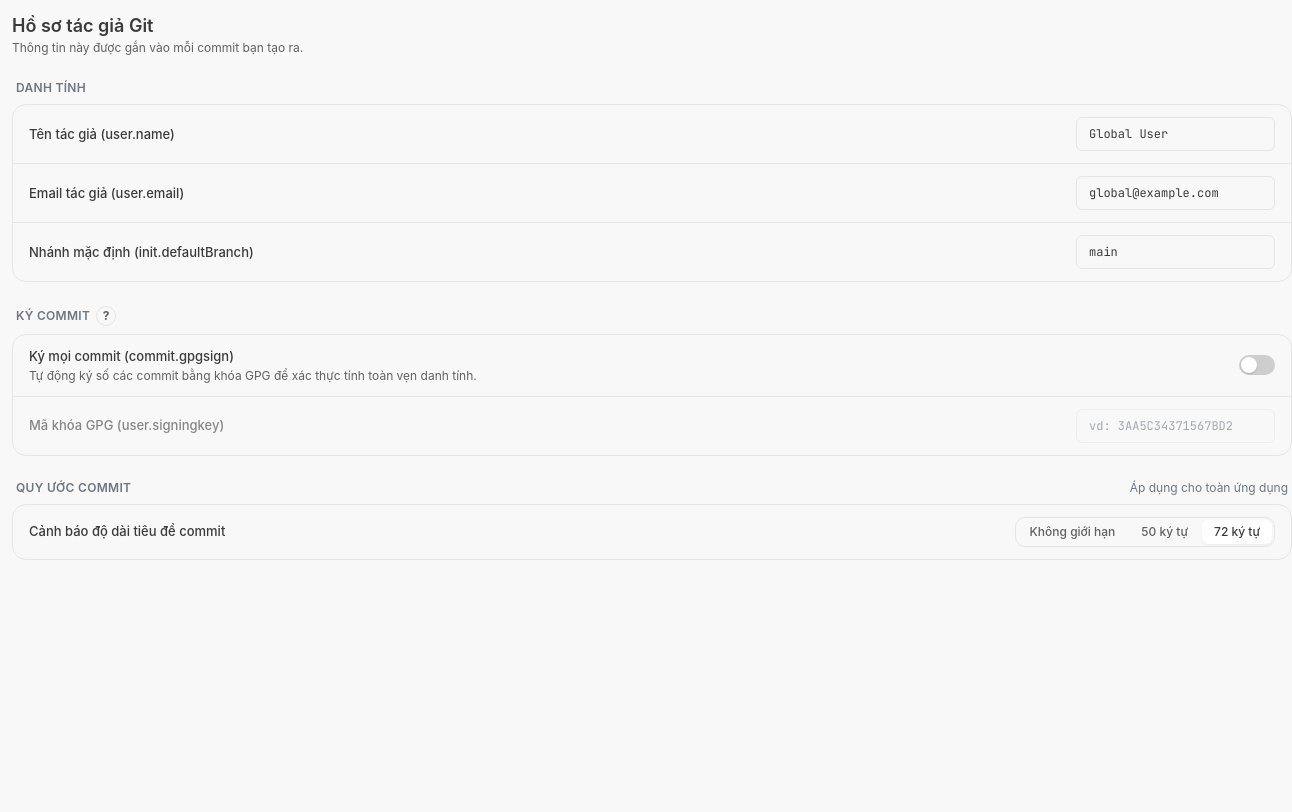
GitProfileTab › shows the save bar only after an edit and discards back to the loaded values
Step 1. Replace the text in the field showing "Global User" with "Someone Else" → (1176, 134), box [1076,117,1275,151]
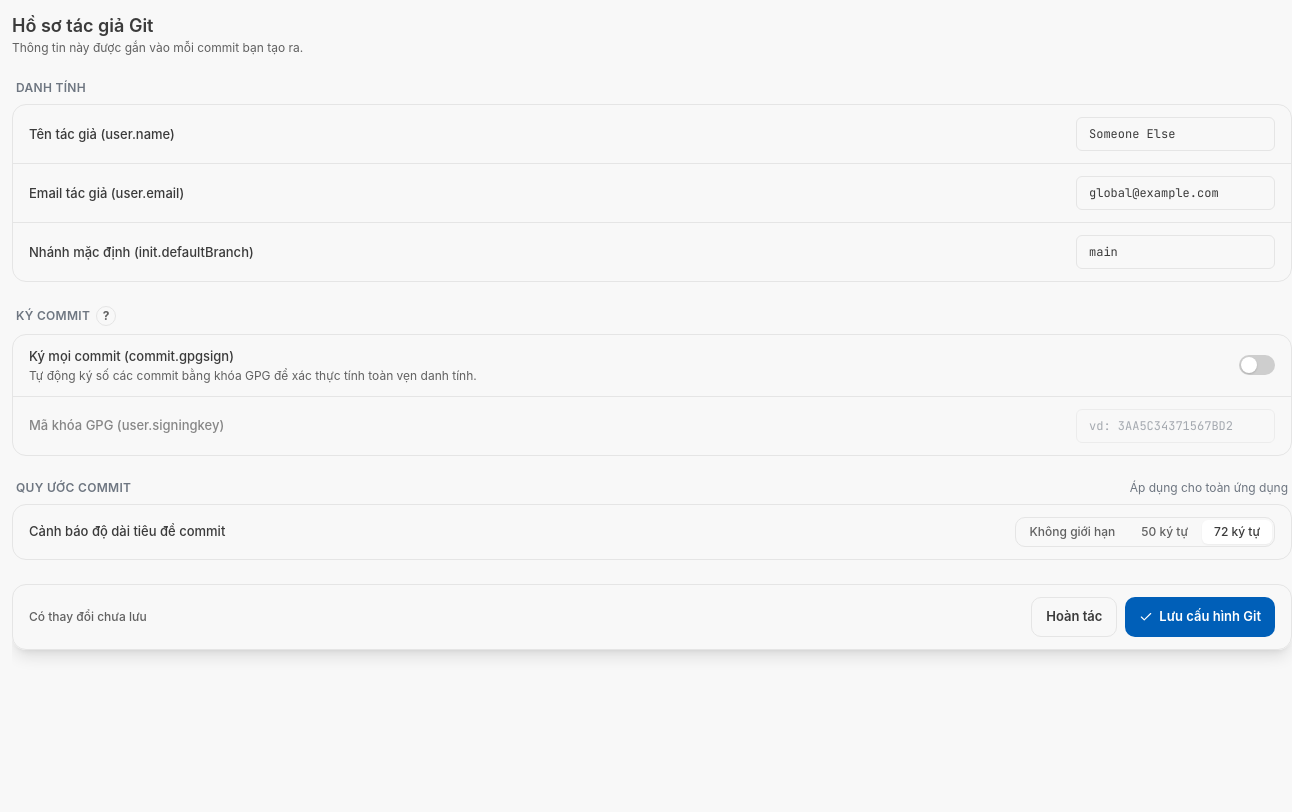
Now the button with test id "save-profile-btn" is shown, box [1125,597,1275,637]
Step 2. Click the button with test id "discard-profile-btn" → (1074, 617), box [1031,597,1117,637]
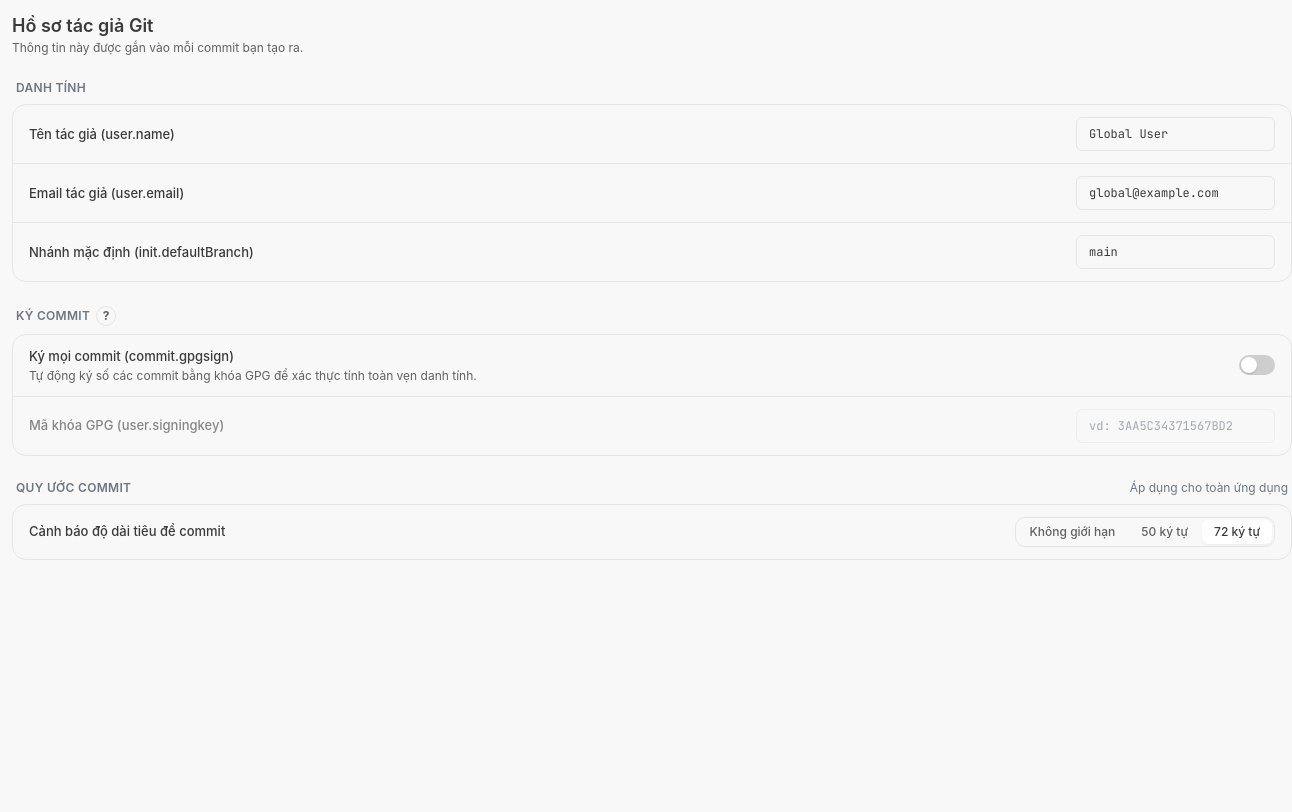
Now the field showing "Global User" holds "Global User", box [1076,117,1275,151]
Now the button with test id "save-profile-btn" is gone
